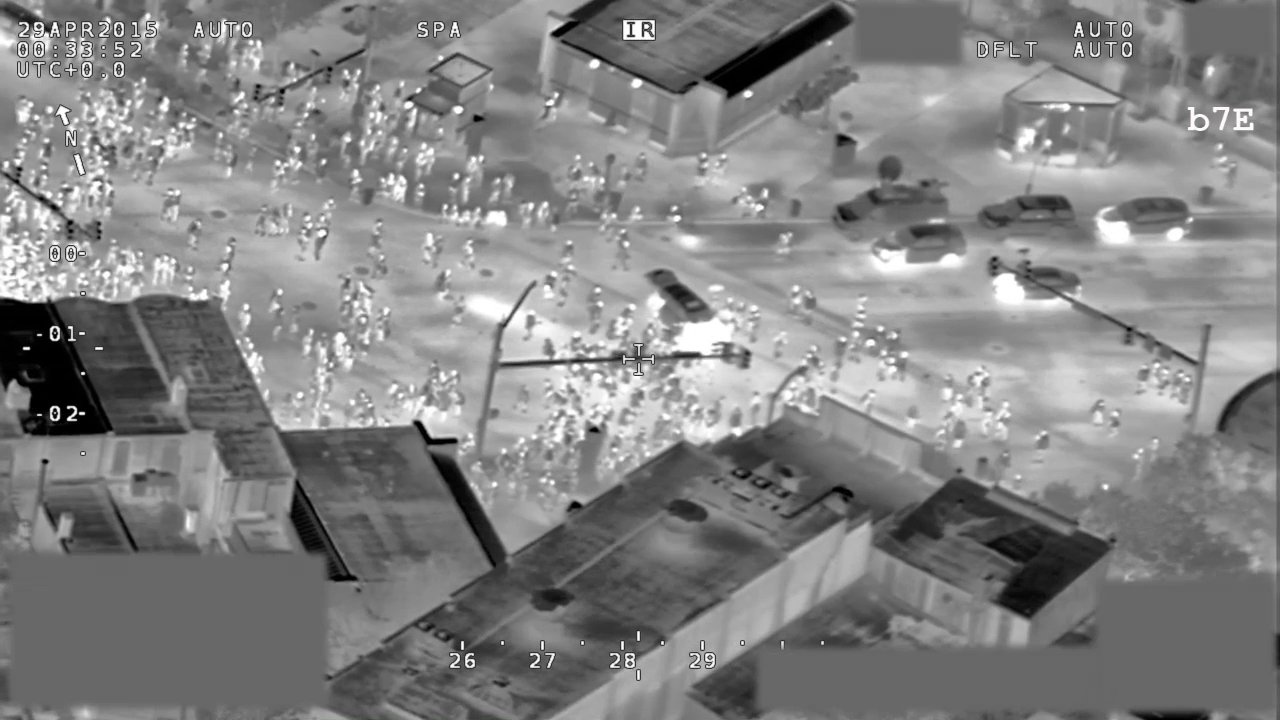vehicle: (828, 150, 956, 247), (635, 262, 737, 359), (1091, 194, 1199, 244), (975, 190, 1078, 240), (872, 216, 969, 268), (988, 262, 1087, 306)
